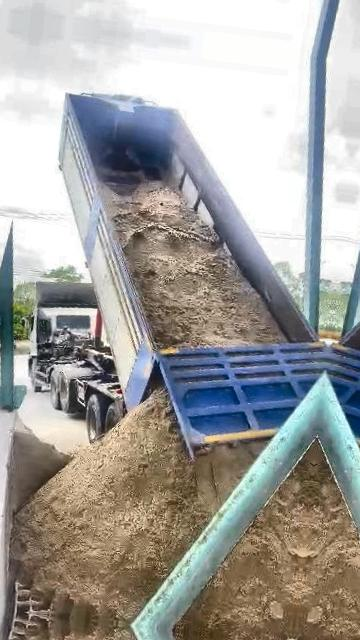sand: (12, 392, 260, 624), (104, 182, 285, 347), (179, 452, 315, 640), (8, 419, 70, 513)
